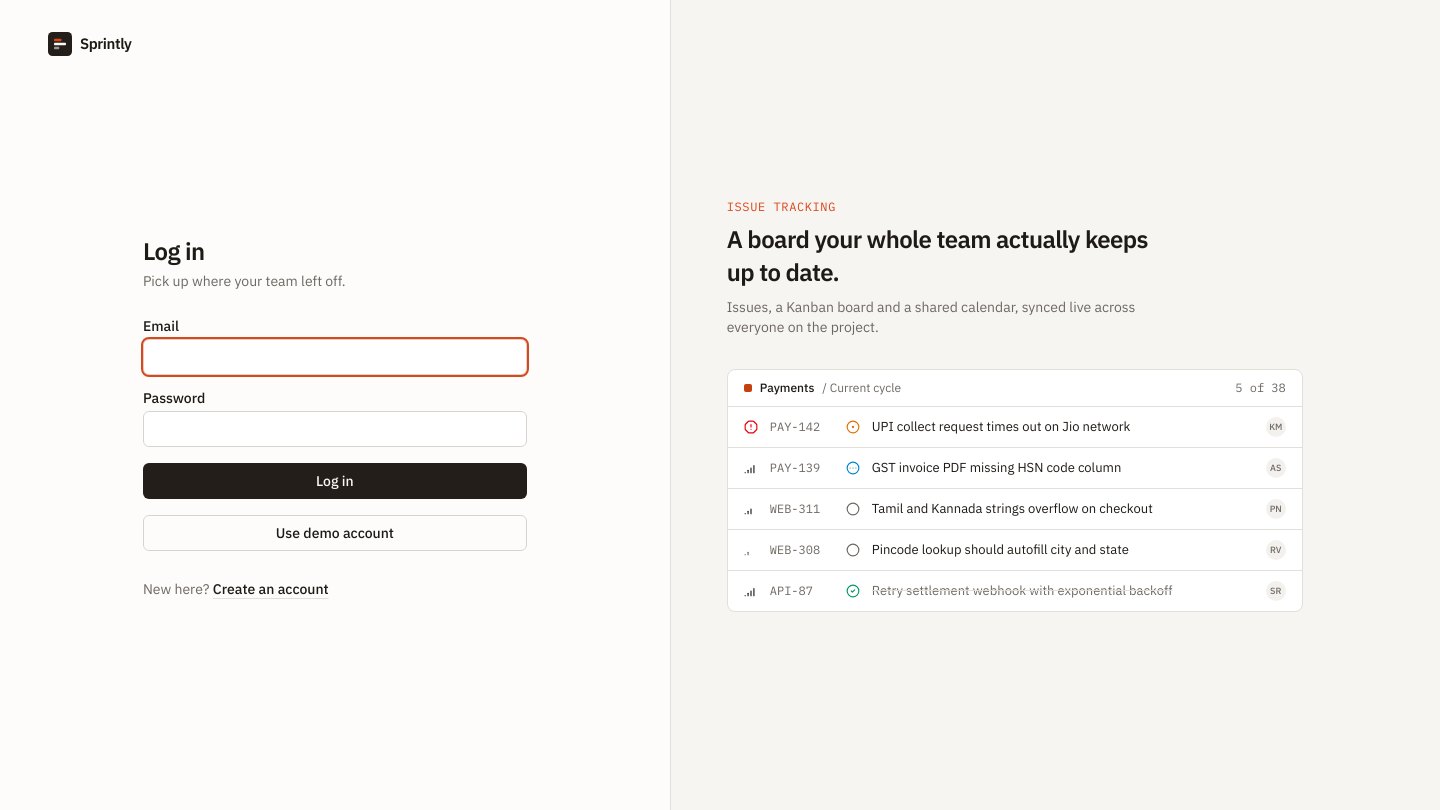
Test: LoginPage › surfaces server errors in an alert
In the field labelled "Email": (335,357) x1=143 y1=339 x2=527 y2=375, type "demo@sprintly.dev"
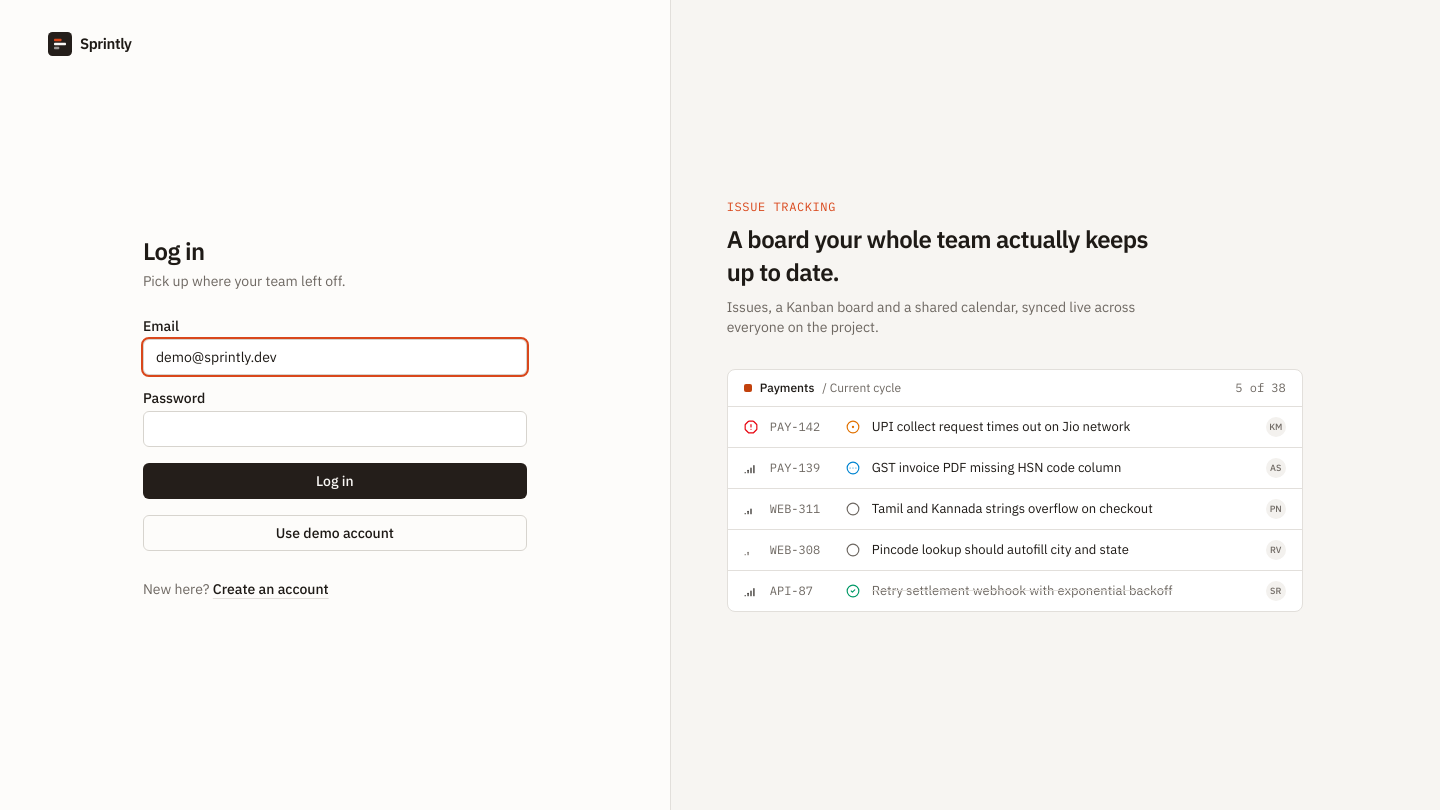
In the password field labelled "Password": (335,429) x1=143 y1=411 x2=527 y2=447, type "wrong"
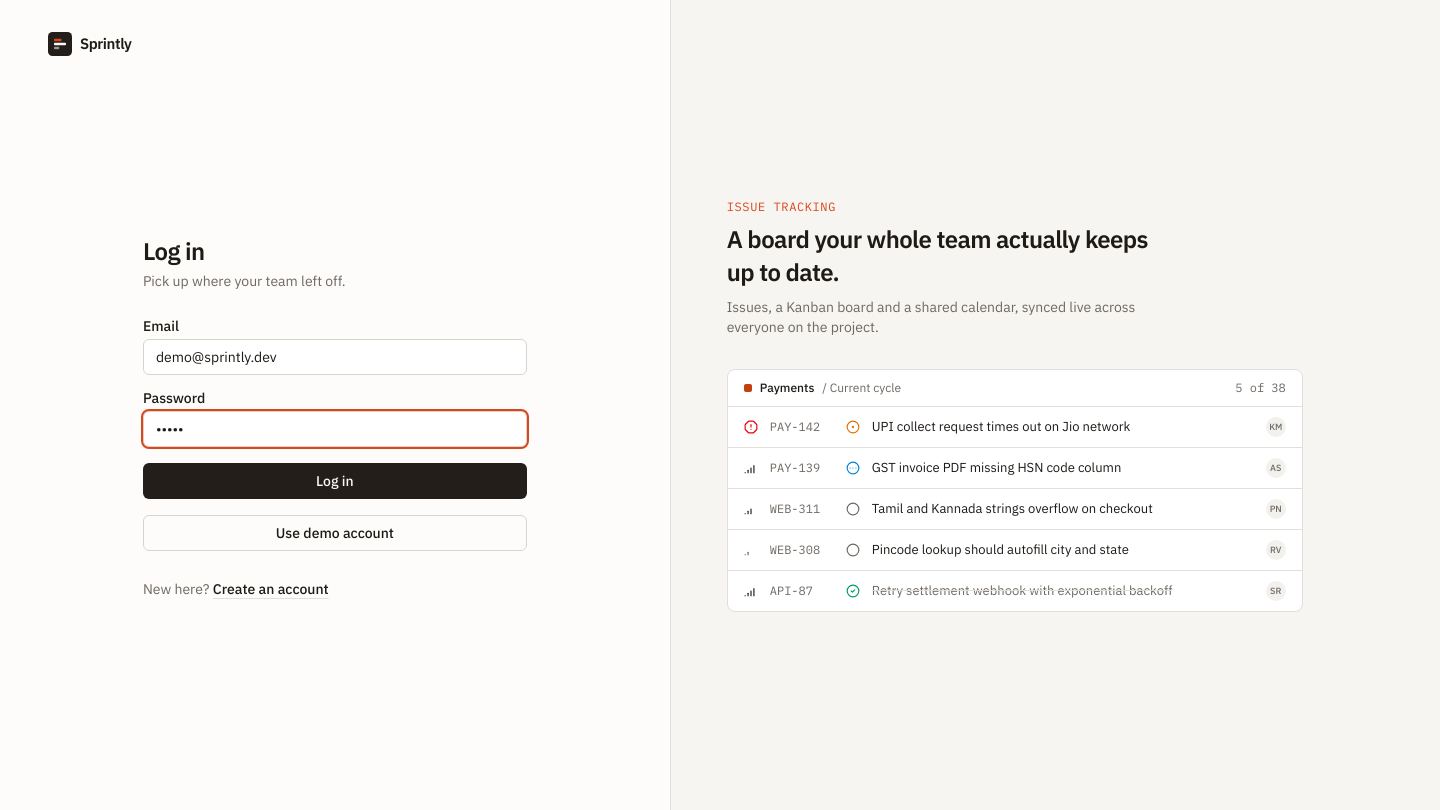
Click the button "Log in": (335,481) x1=143 y1=463 x2=527 y2=499
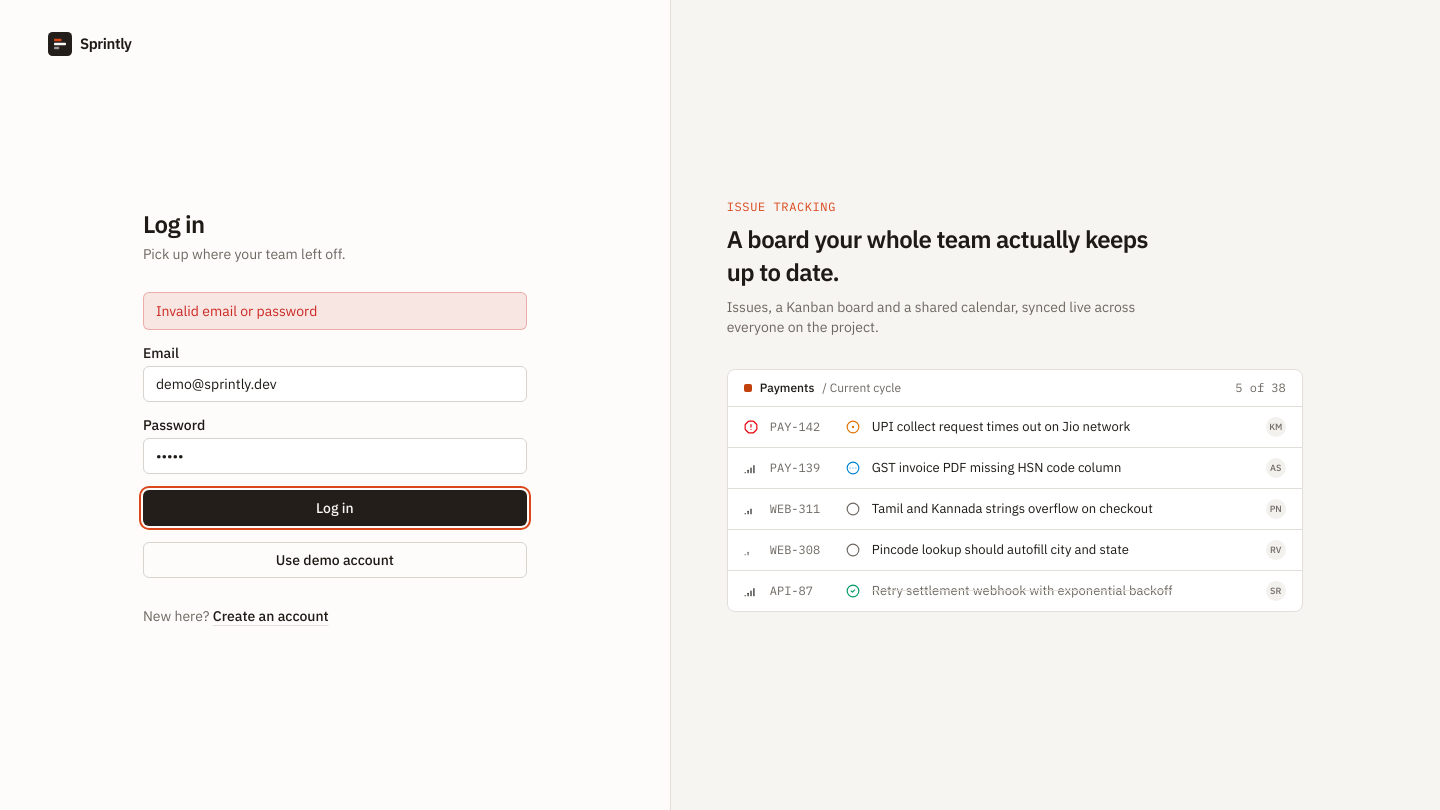
Expected: the message reads "Invalid email or password", x1=156 y1=302 x2=317 y2=320
